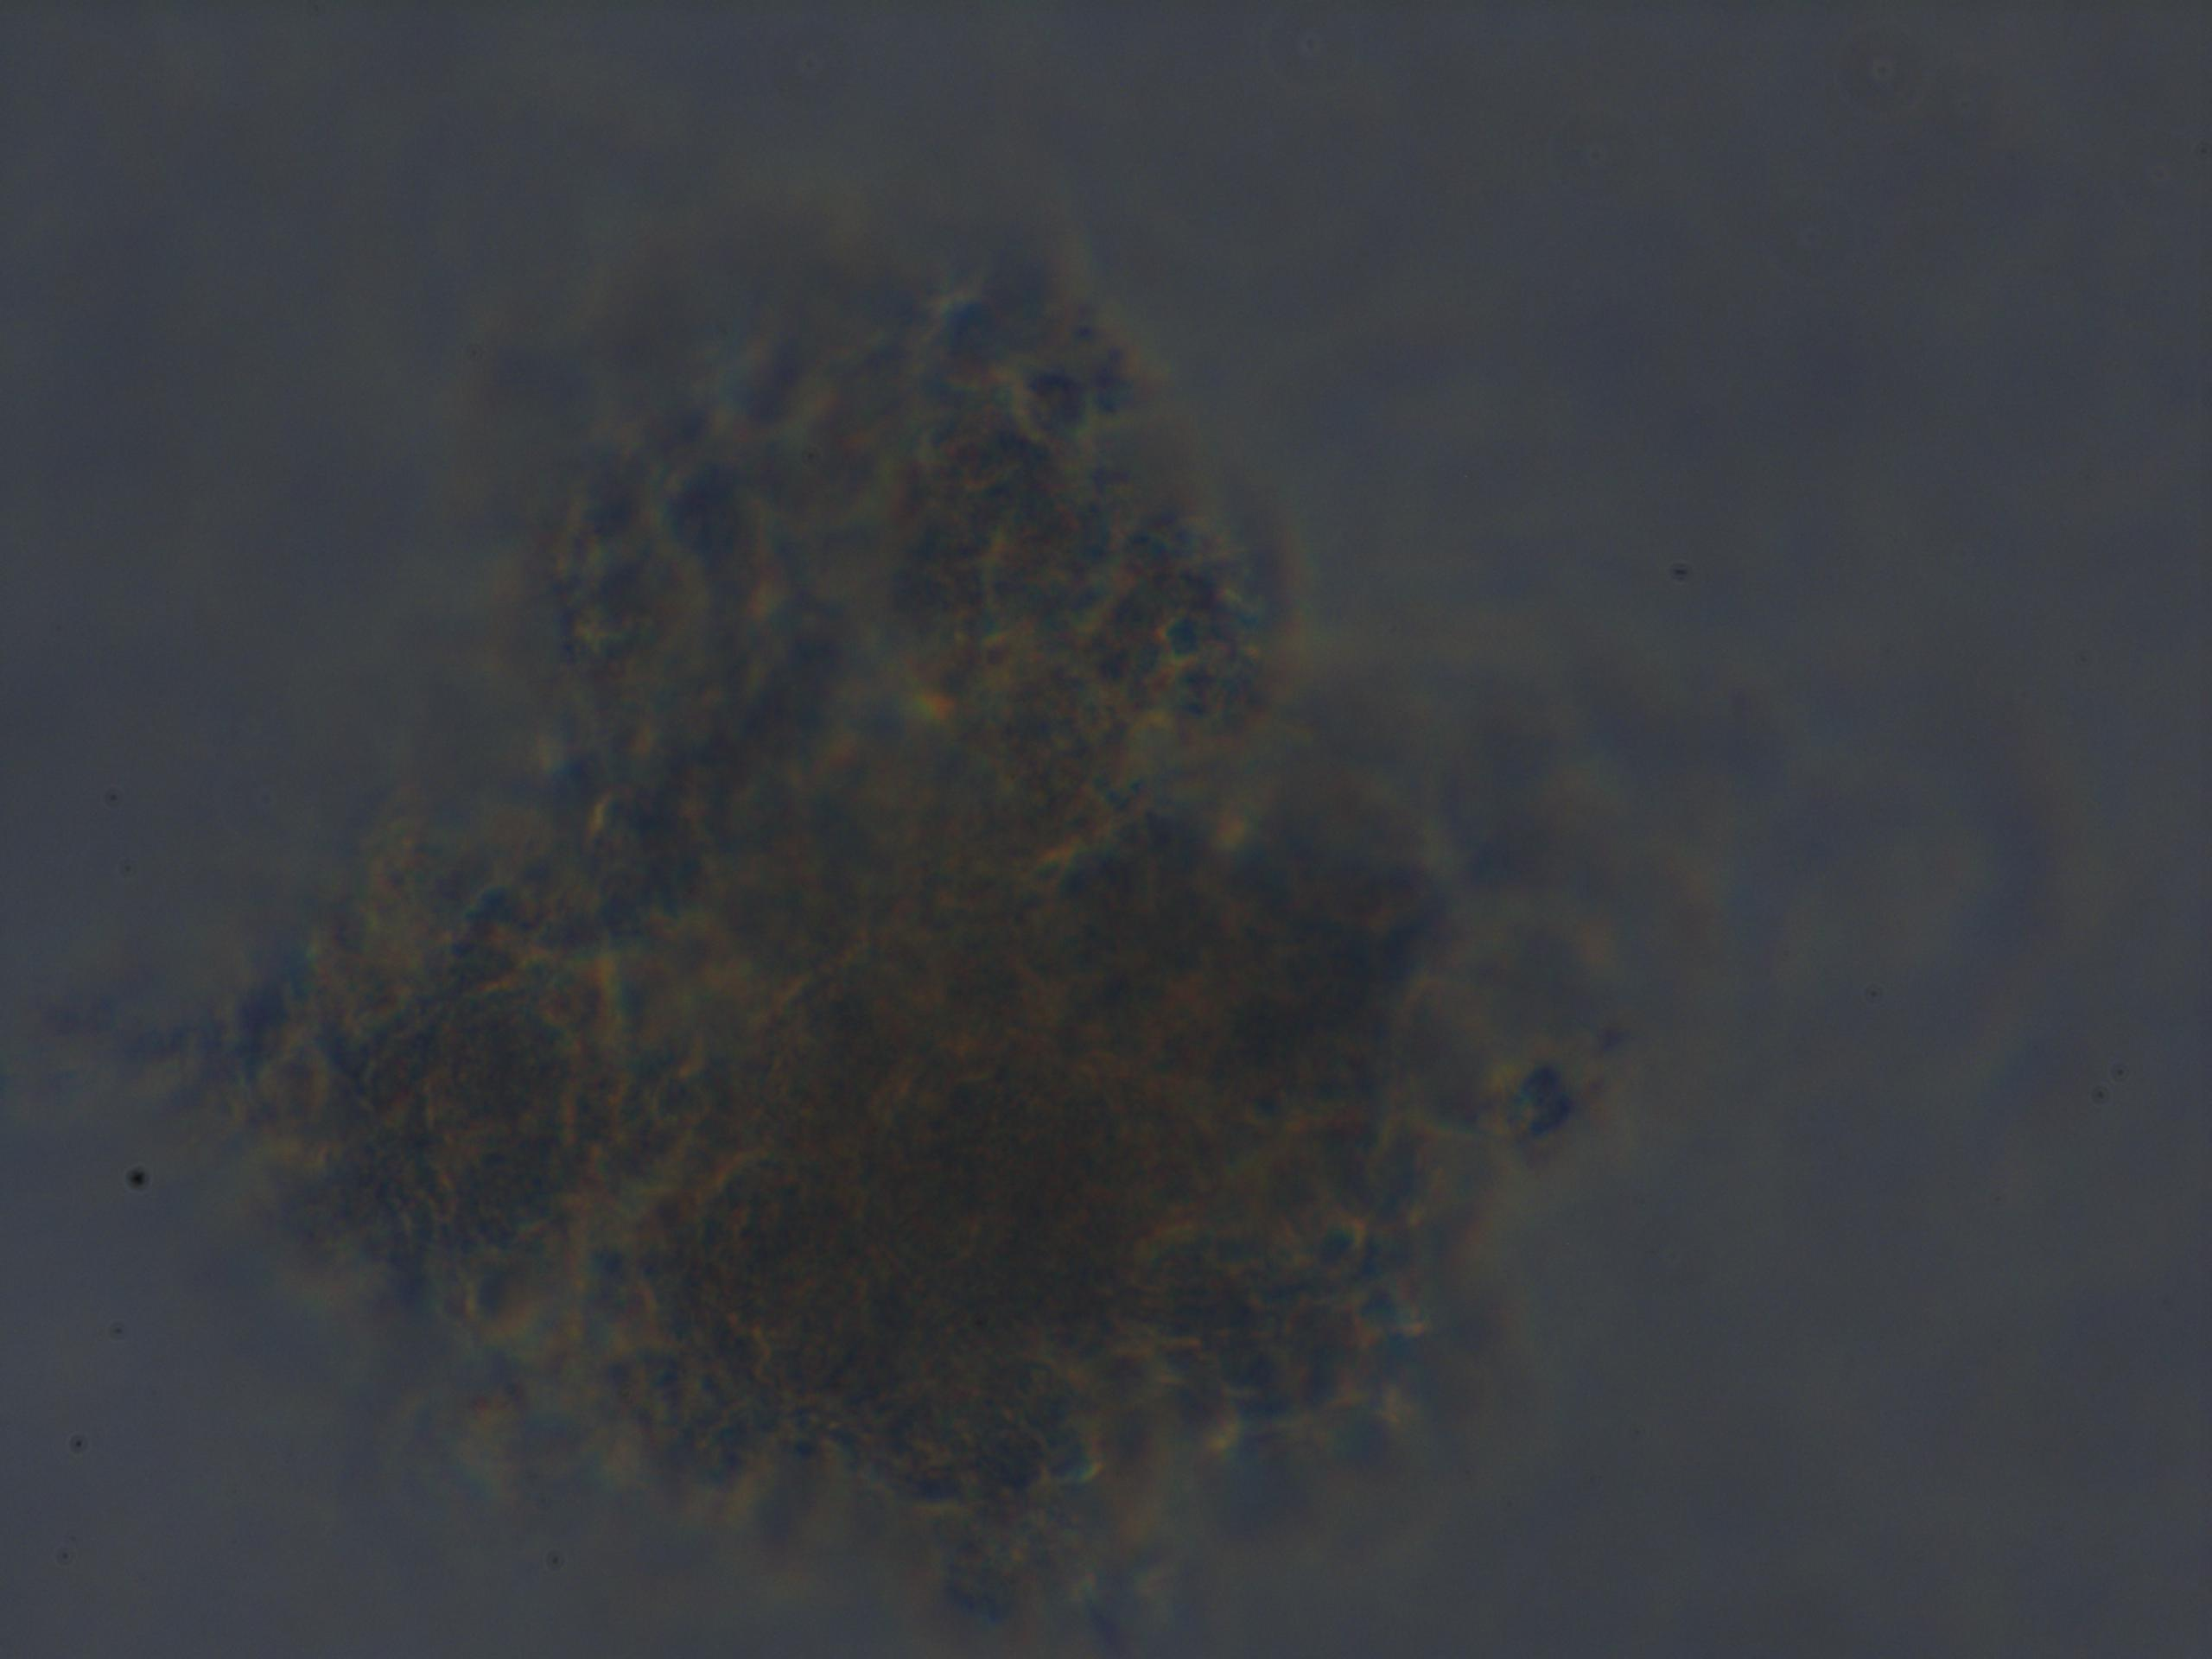spherical_floc: (246, 265, 1575, 1645)
